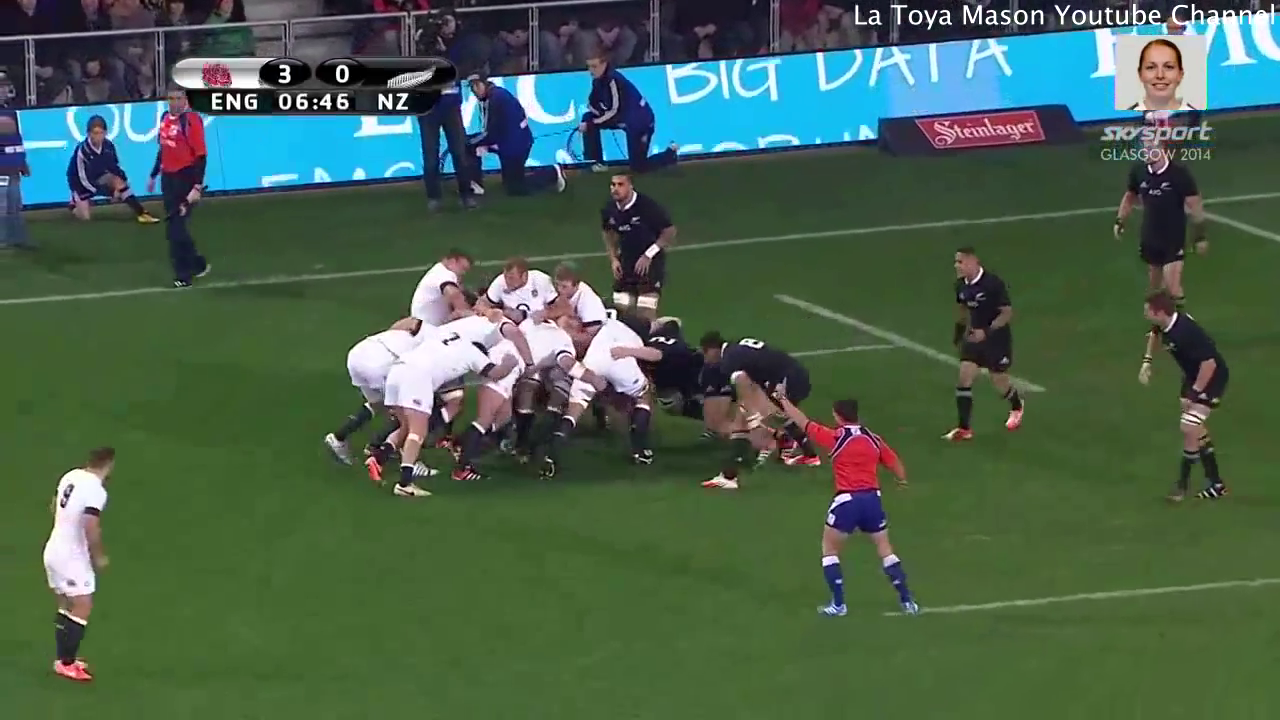player: (770, 368, 935, 642), (676, 312, 835, 502), (361, 316, 518, 501), (1121, 282, 1245, 516), (1097, 119, 1217, 356), (525, 312, 664, 485), (36, 439, 129, 688), (931, 238, 1036, 449), (310, 317, 435, 474), (585, 163, 685, 339), (404, 243, 485, 331), (541, 260, 622, 339), (475, 244, 558, 320)
